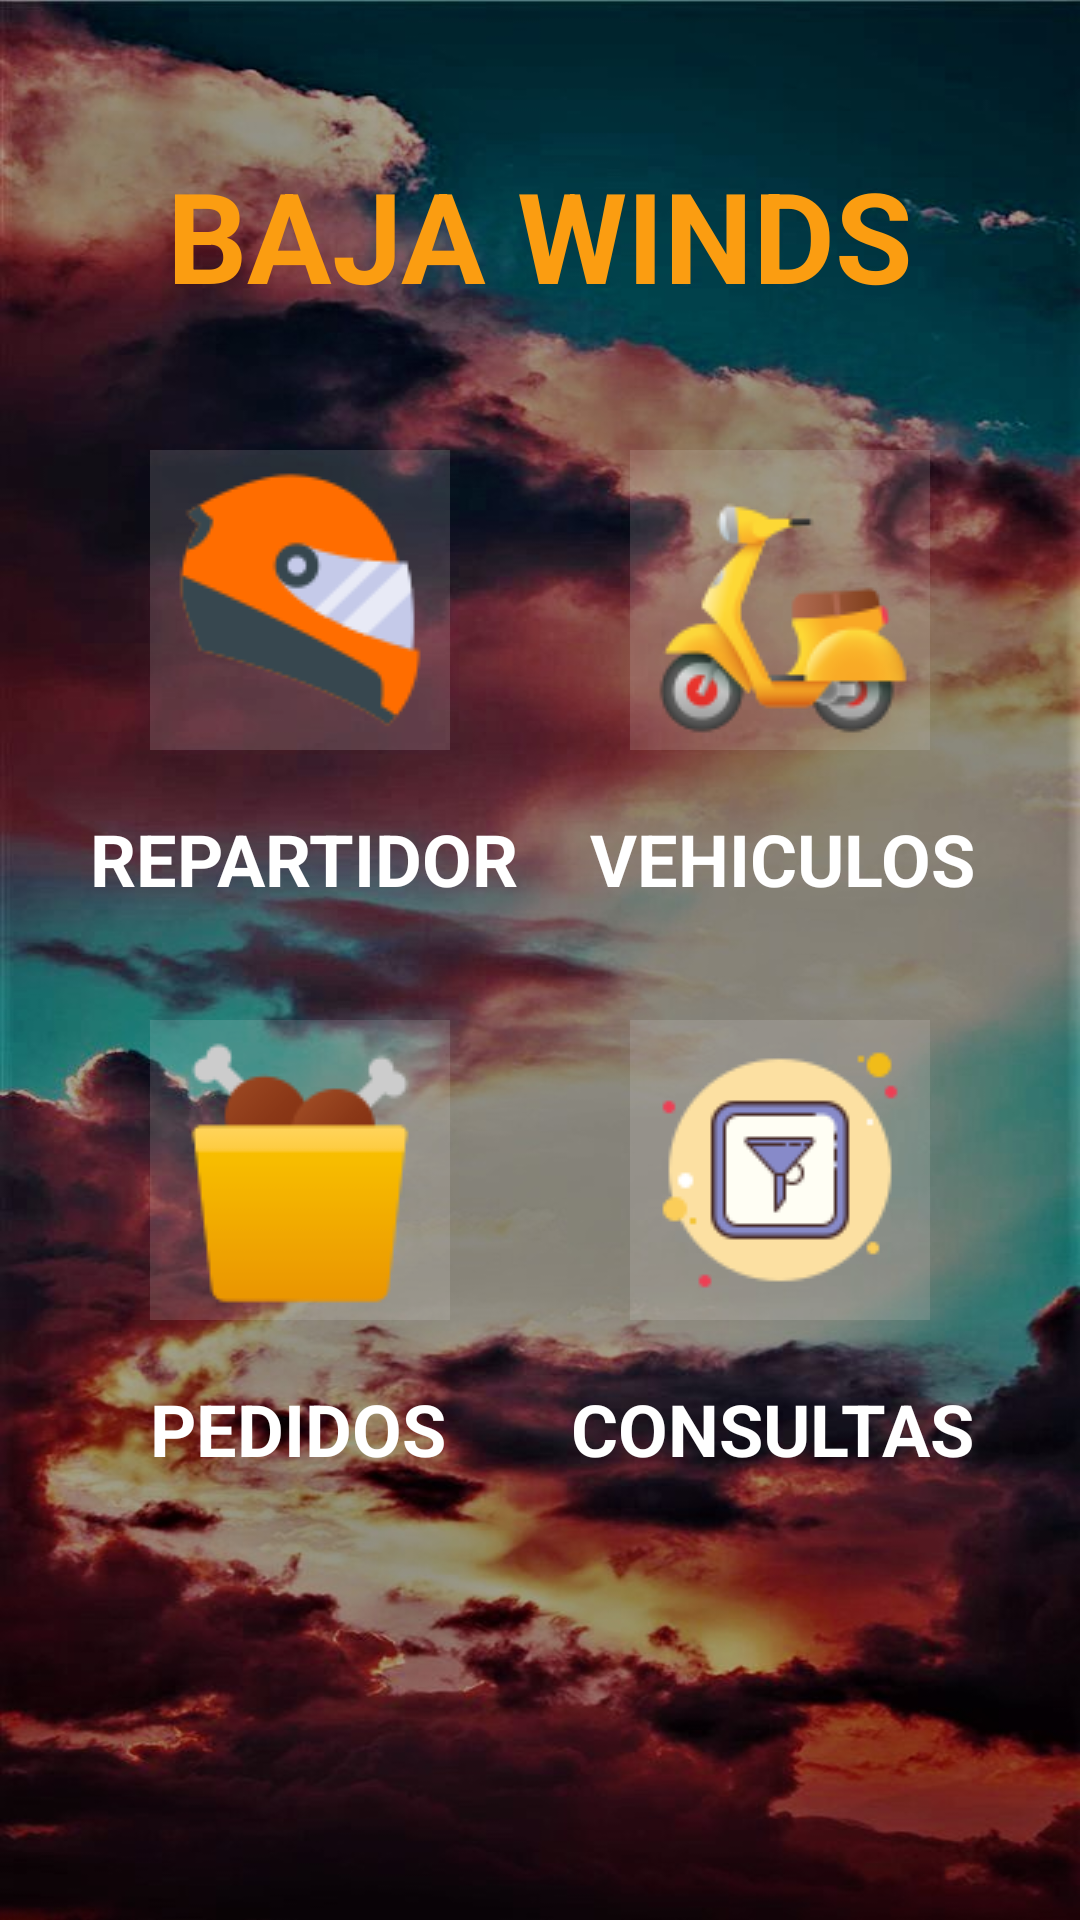

Named icons in this screenshot (1080px x 1920px) and their centers, [x,y]:
filtrar: [764,1186]
